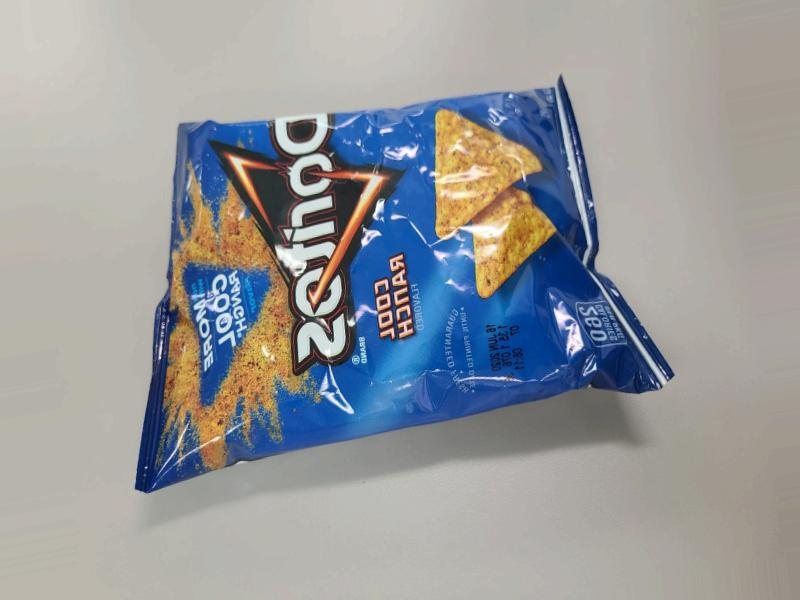doritos: (208, 55, 667, 509)
